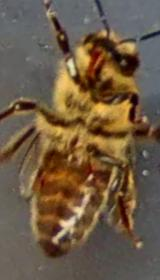varroa_mite: (72, 152, 104, 184)
